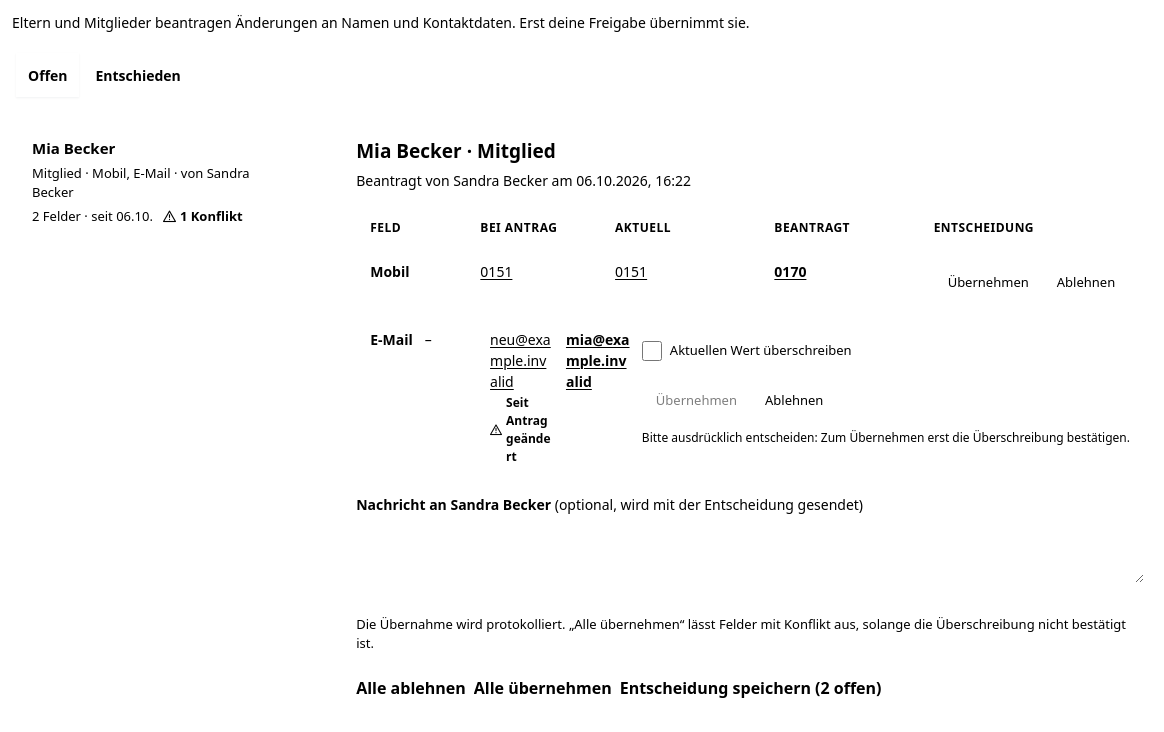
Test case: ChangeRequestsTab › reloads and tells the reviewer when the request is outdated
Click the button "Alle ablehnen".
click(411, 688)  # box [356,666,466,710]
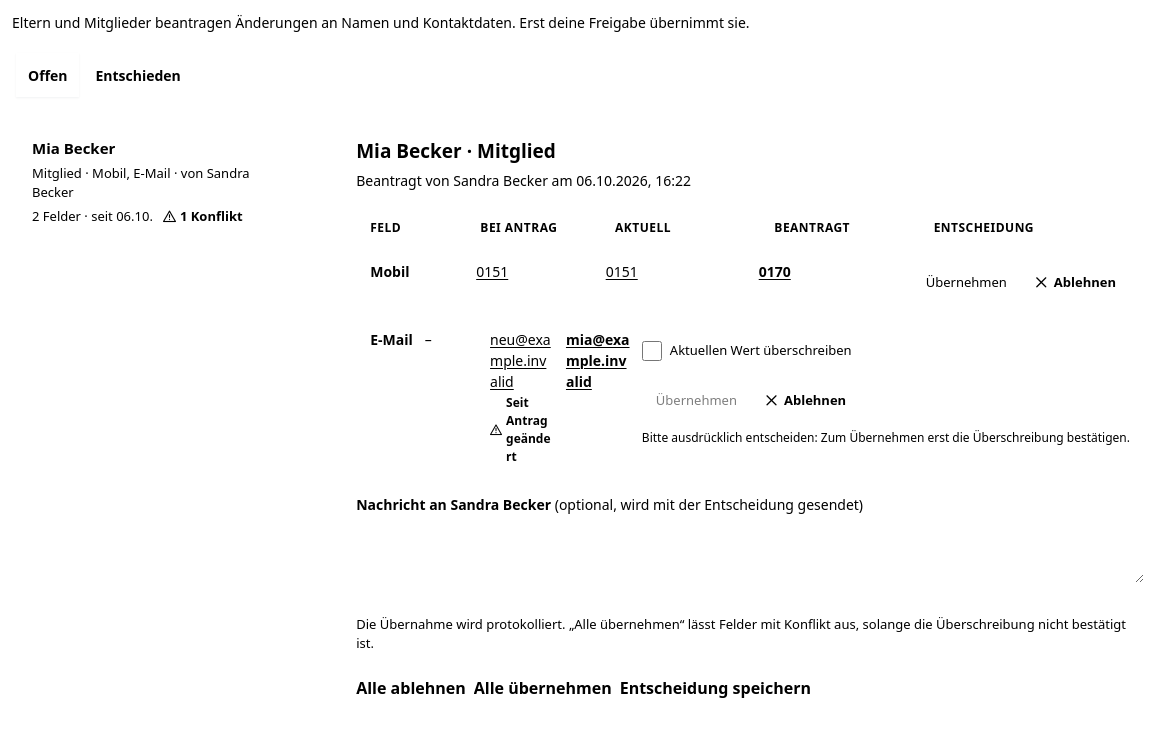
Click the button "Entscheidung speichern".
click(715, 688)  # box [620,666,811,710]
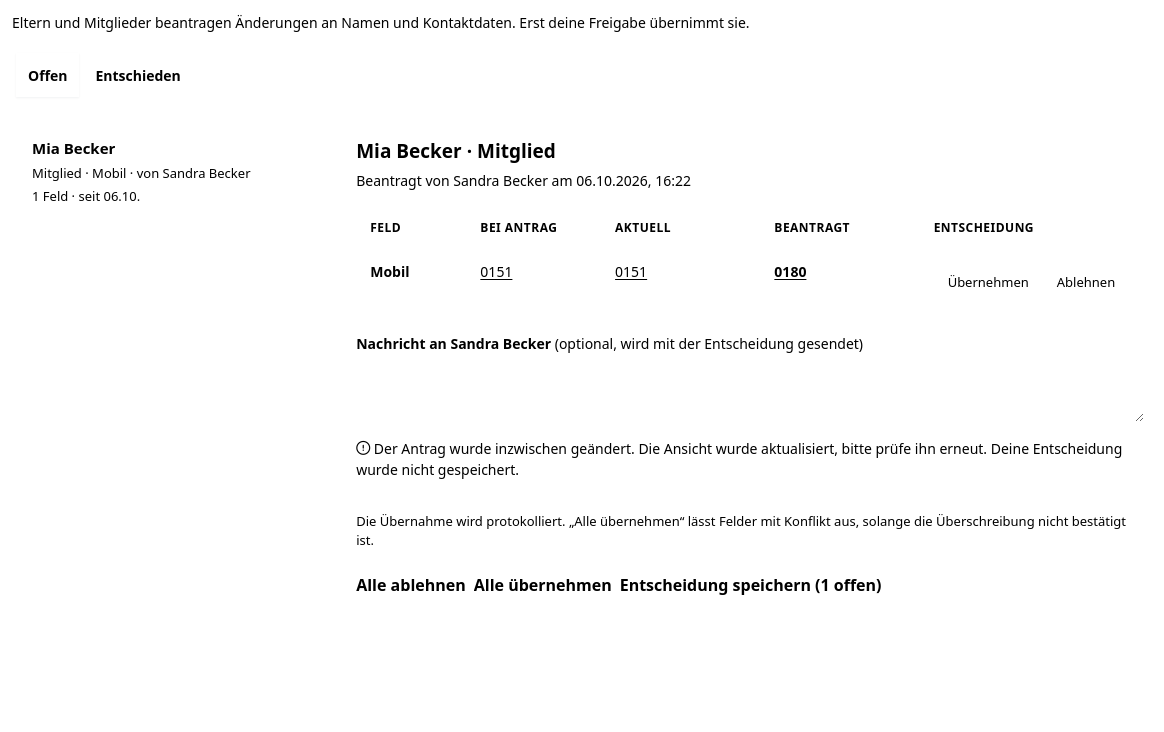
Check: the message shows "inzwischen geändert", box [356,438,1122,478]
Check: the text "0180" is shown, box [774,262,806,280]
Check: the button "Entscheidung speichern (1 offen)" is shown, box [620,562,882,606]
